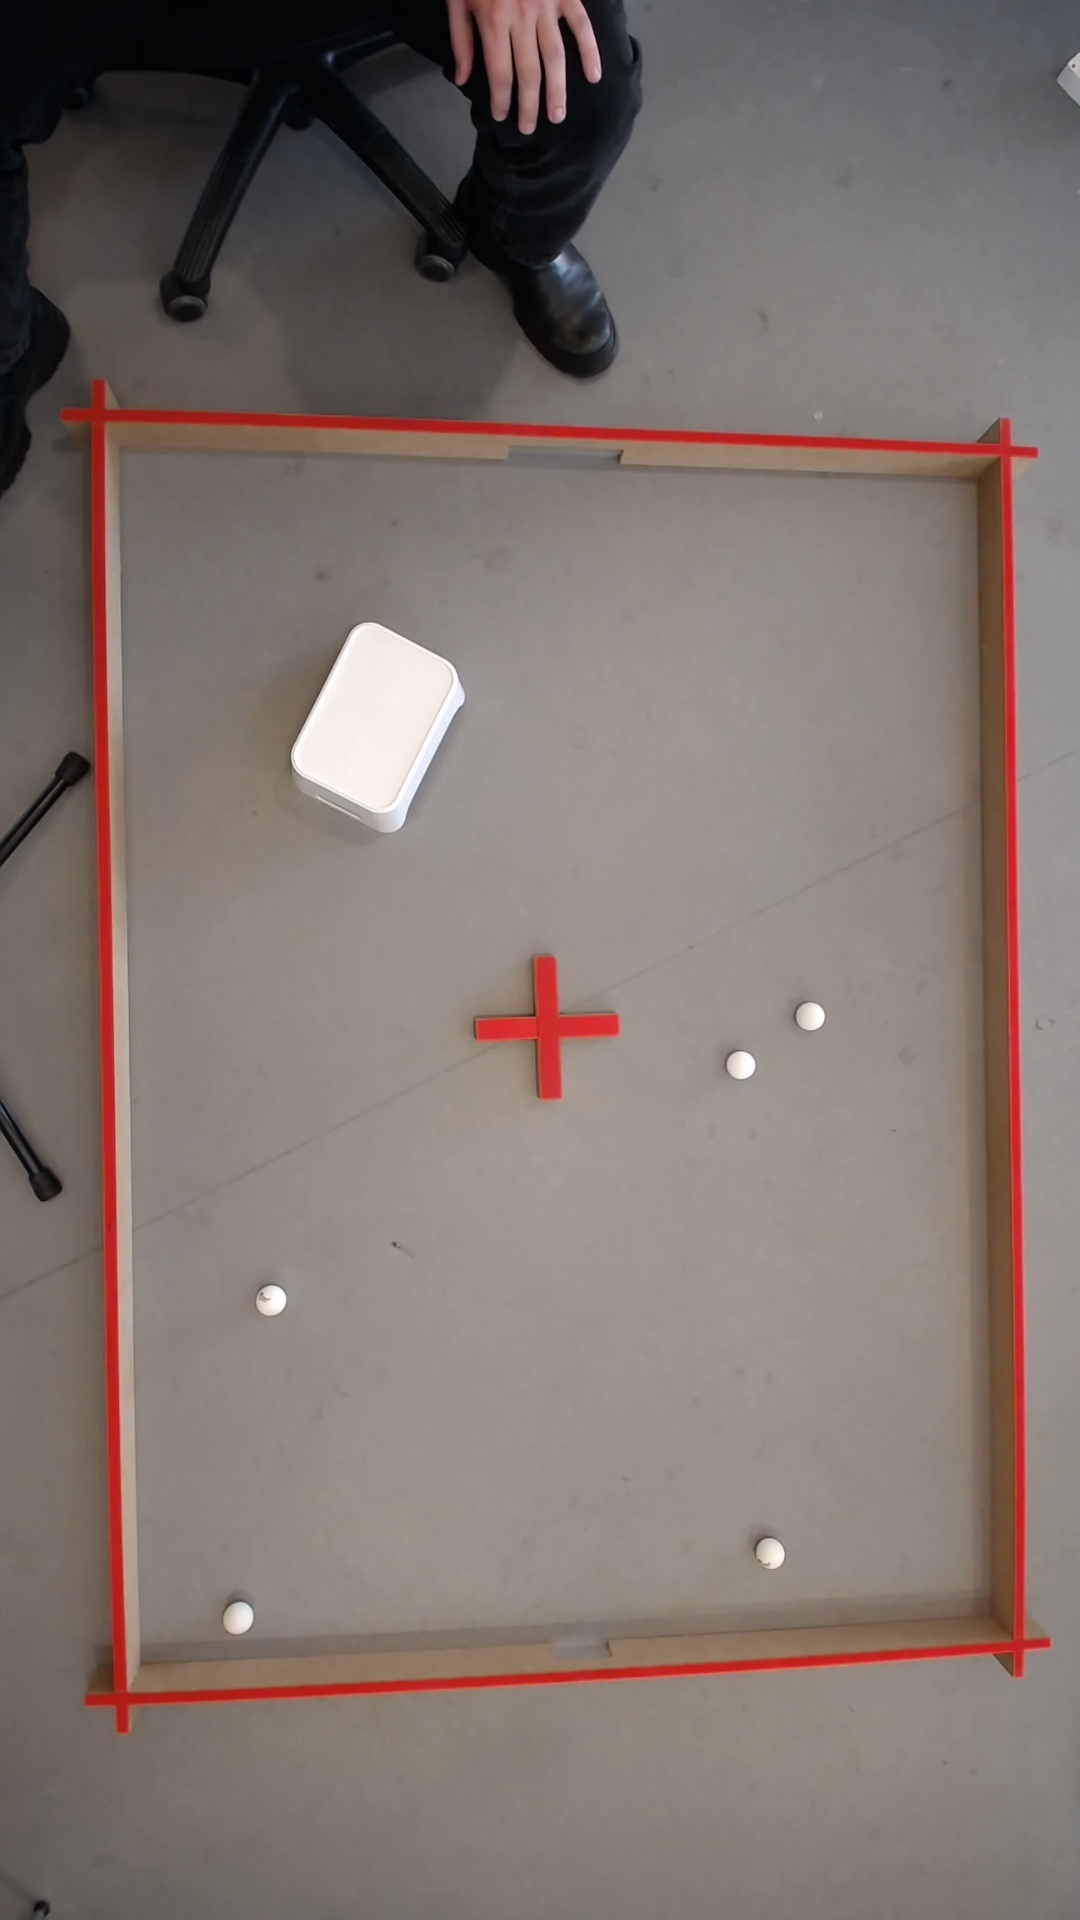balls: (281, 613, 477, 828), (754, 1535, 790, 1572), (224, 1598, 257, 1636), (795, 998, 828, 1034), (731, 1051, 756, 1079)
car: (556, 59, 564, 87)
